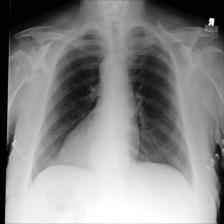normal: (27, 25, 197, 192)
